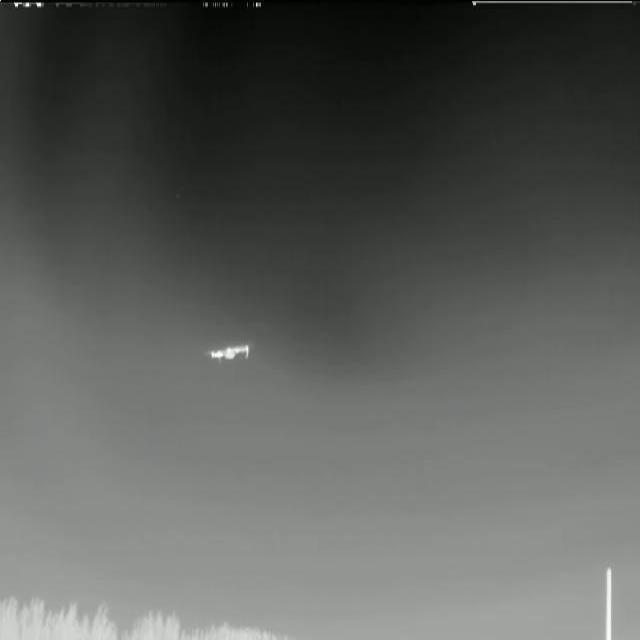DRONE: (201, 336, 260, 371)
